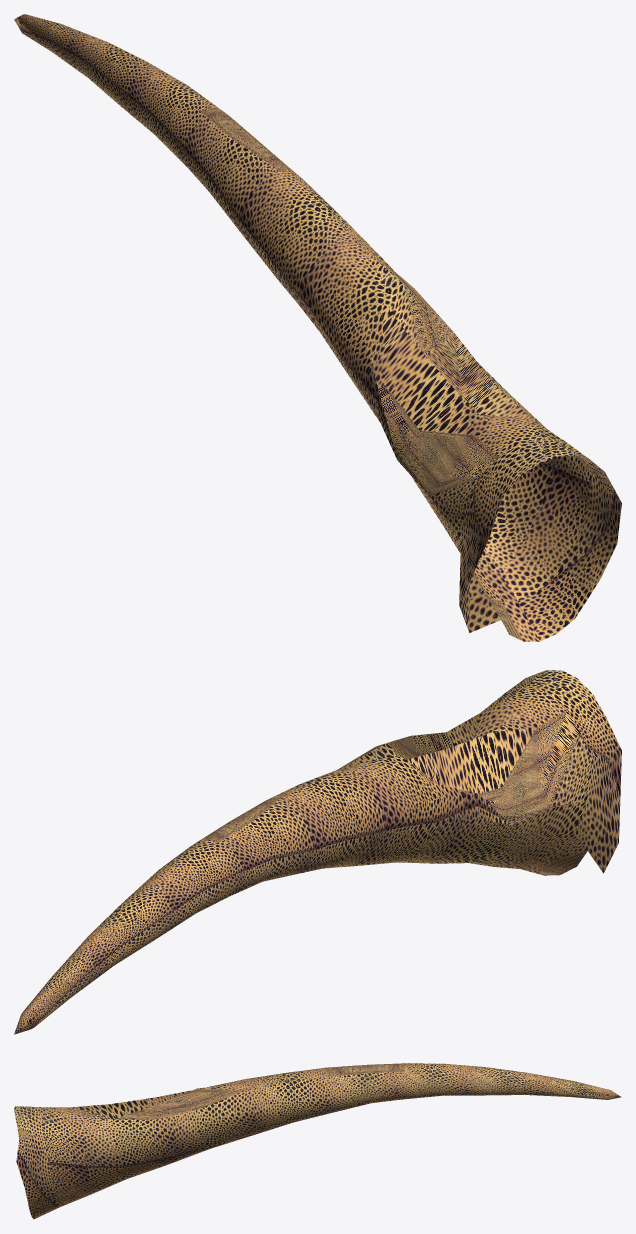
File: Cola.obj
The picture shows the model from 3 angles, top to bottom: view 1: azimuth 30°, elevation 25°; view 2: azimuth 150°, elevation 25°; view 3: azimuth 270°, elevation 25°; orthographic projection. The views are drawn at different scales.
Parts seen in each view (by area): view 1: Object008; view 2: Object008; view 3: Object008.
Part boxes in pixels (x1=…): Object008: x1=14, y1=14, x2=621, y2=641; Object008: x1=14, y1=670, x2=621, y2=1034; Object008: x1=14, y1=1063, x2=621, y2=1219.
Bounding box in the file's own units: 0.6569 × 1.21 × 4.29.
1 material, 1 textured.
